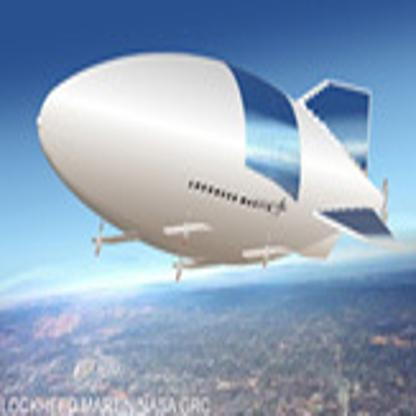Airship: (33, 56, 402, 272)
